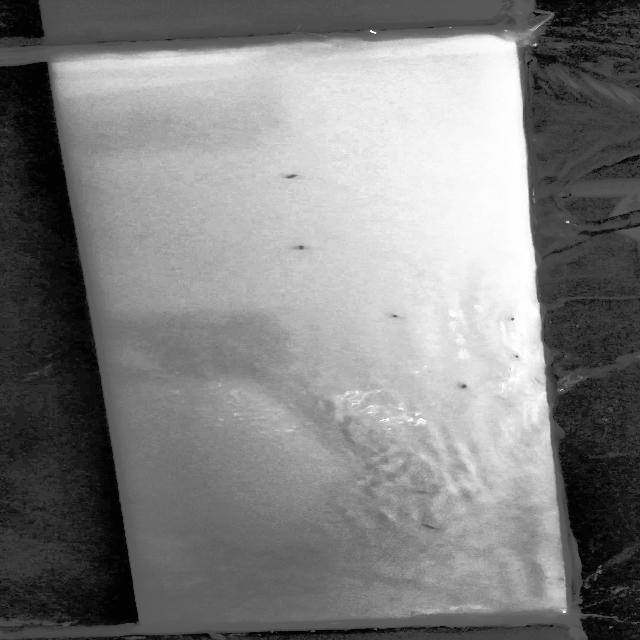shrimp: (499, 315, 526, 325), (290, 243, 313, 254), (282, 171, 304, 182), (508, 348, 525, 360), (455, 382, 470, 392), (387, 312, 402, 321)
